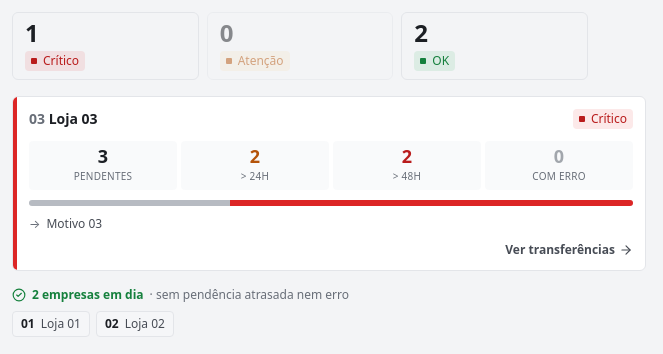
Test: CompanyStatusList › empresas em dia viram uma linha compacta e o resumo filtra por situação
expect the text "2 empresas em dia" is shown: met, box [32,286,144,303]
expect the list item "Motivo 03" is shown: met, box [46,215,102,232]
Click the button "1 Crítico" at (105, 46), box [12,12,199,80]
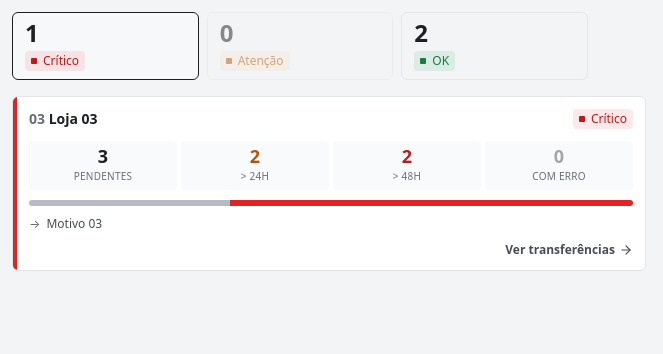
expect the list item "Motivo 03" is shown: met, box [46,215,102,232]
expect the text "2 empresas em dia" is gone: met
